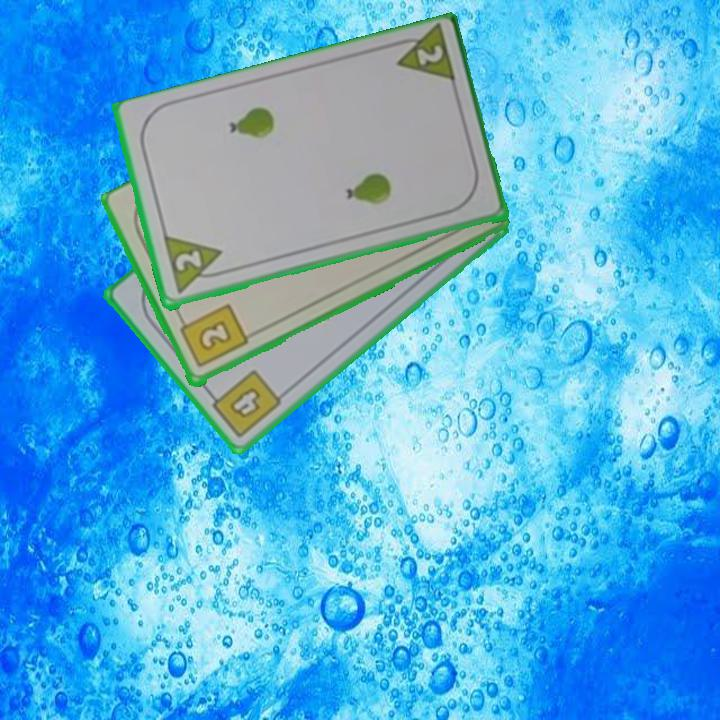2b: (175, 301, 251, 371)
2p: (386, 24, 459, 89), (159, 233, 230, 298)
4b: (203, 366, 285, 441)
